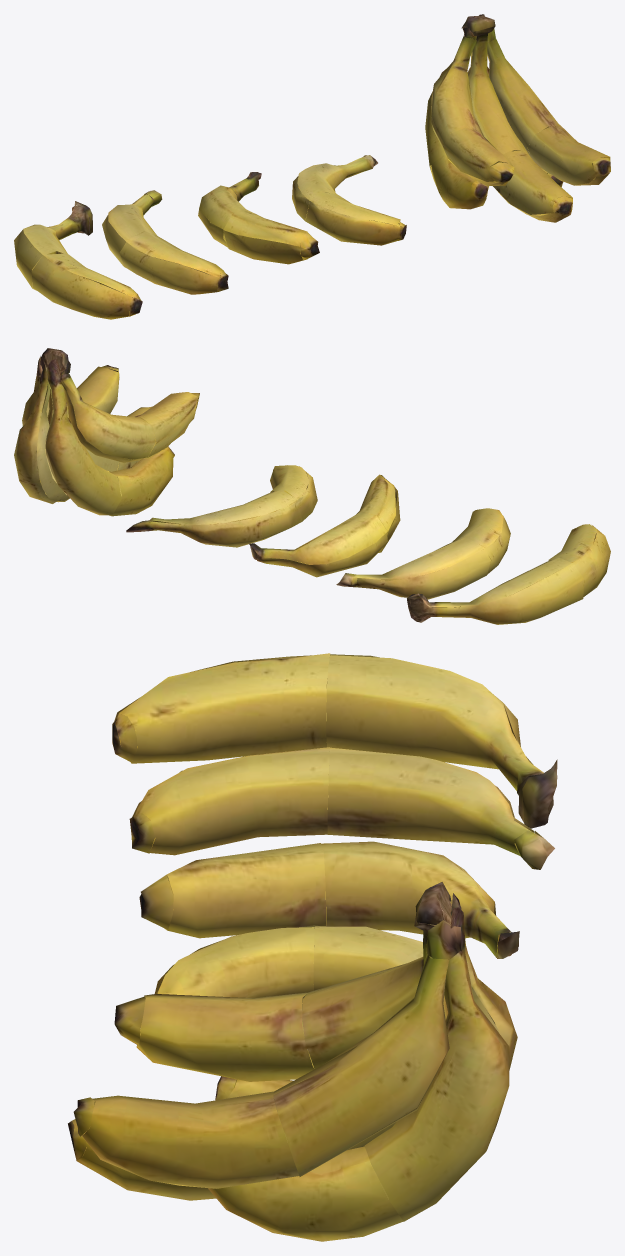
File: bananas.glb
3 views of the same model, one above another, from view 1: azimuth 30°, elevation 25°; view 2: azimuth 150°, elevation 25°; view 3: azimuth 270°, elevation 25° (orthographic). The views are drawn at different scales.
Visible parts, largest first — view 1: bananas_bunch; view 2: bananas_bunch; view 3: bananas_bunch.
Boxes of the visible parts, x1,y1,x2,y2 form: bananas_bunch: (14, 14, 610, 319); bananas_bunch: (14, 348, 610, 624); bananas_bunch: (68, 653, 557, 1241).
Bounding box in the file's own units: 0.5998 × 0.1789 × 0.2427.
1 material, 1 textured.
